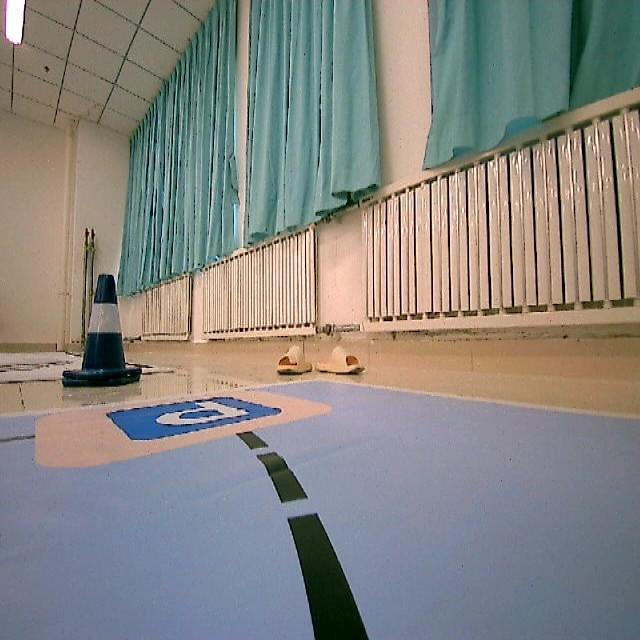obstacle: (59, 266, 148, 396)
